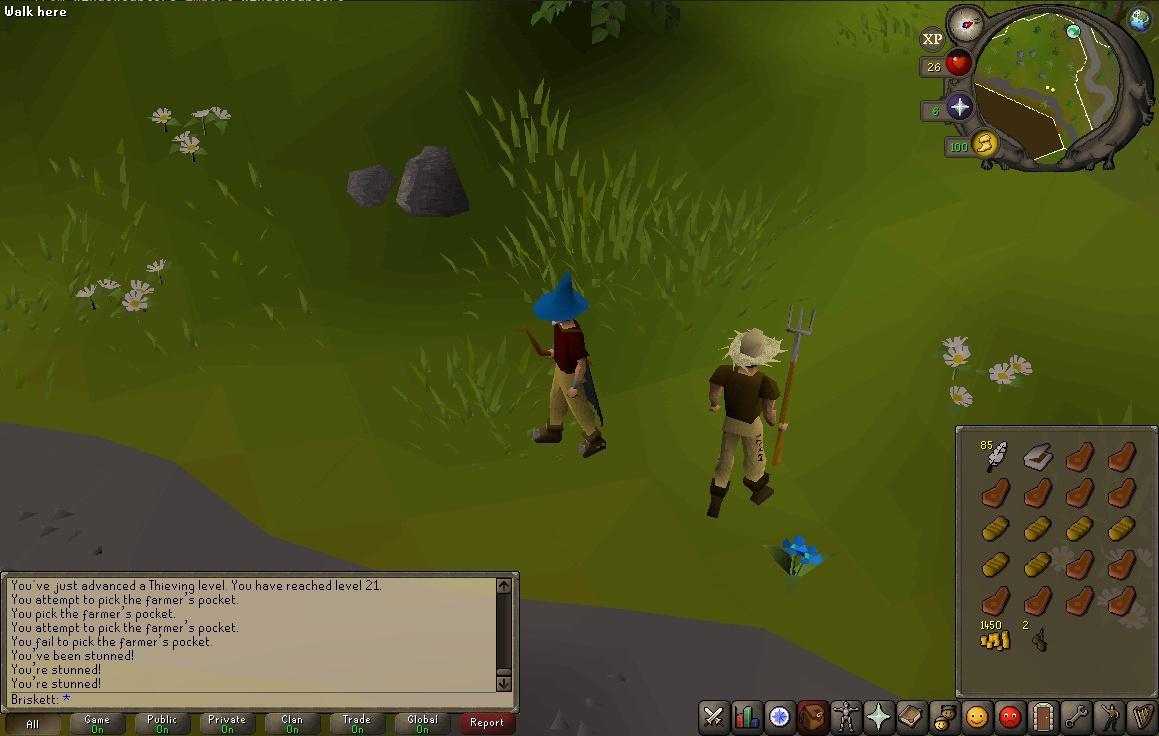Farmer: (705, 327, 789, 519)
